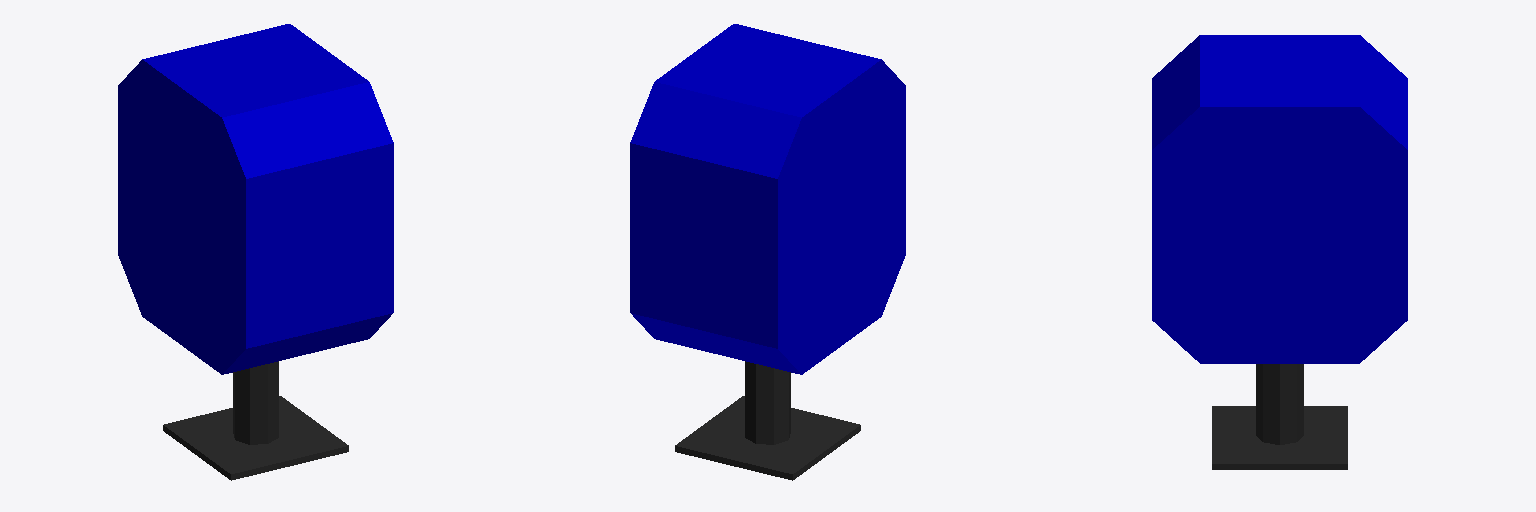
File: nwsppr2.obj
3 renders of one model, left to right at view 1: azimuth 30°, elevation 25°; view 2: azimuth 150°, elevation 25°; view 3: azimuth 270°, elevation 25°, orthographic.
Parts seen in each view (by area): view 1: Cylinder.034; view 2: Cylinder.034; view 3: Cylinder.034.
Part boxes in pixels (x1,y1,x2,y2): Cylinder.034: (118,24,393,480); Cylinder.034: (630,24,905,480); Cylinder.034: (1152,35,1407,469).
Size of the model in its own units: 0.5 by 1.2 by 0.7503.